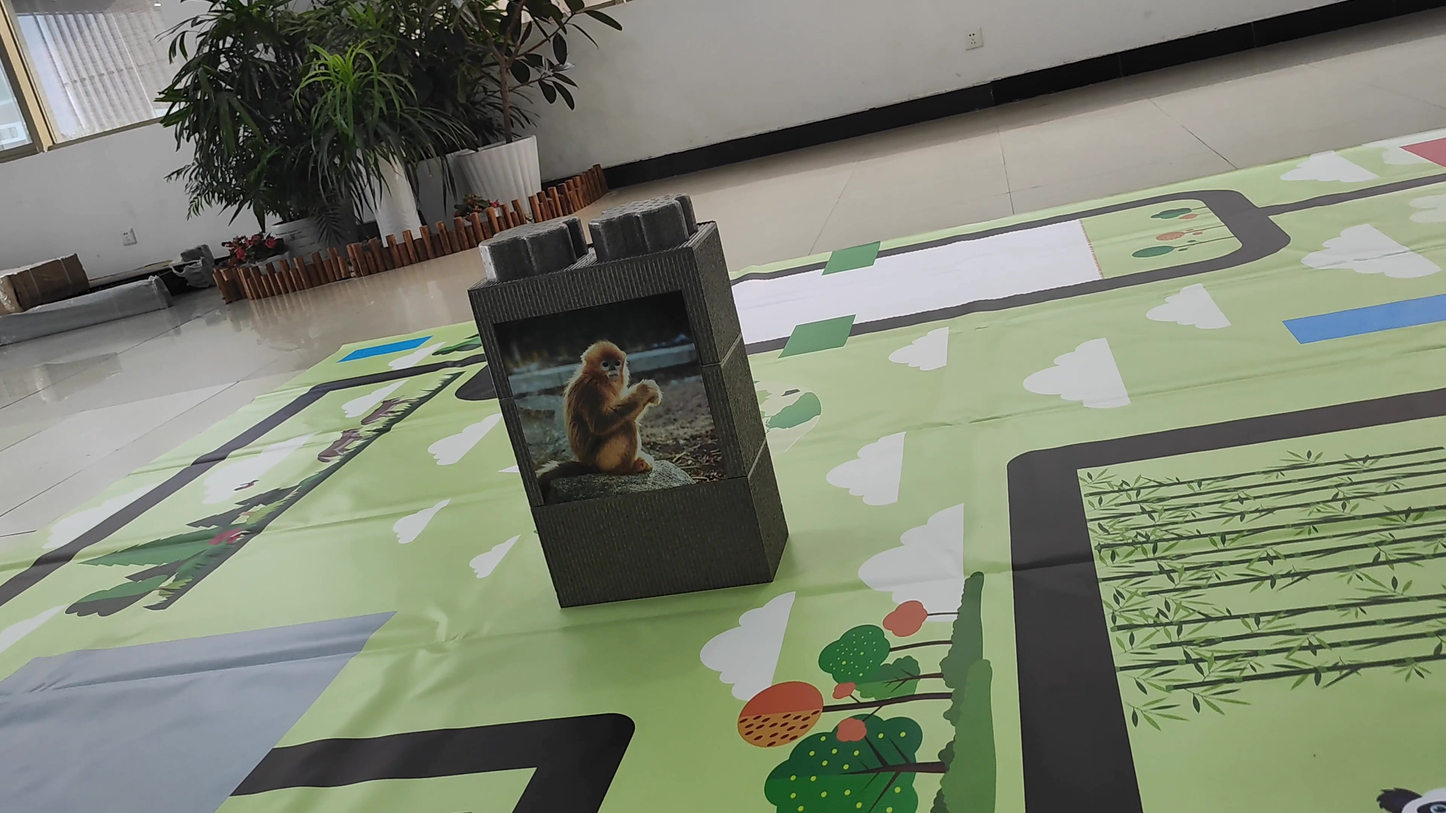monkey: (555, 327, 694, 475)
